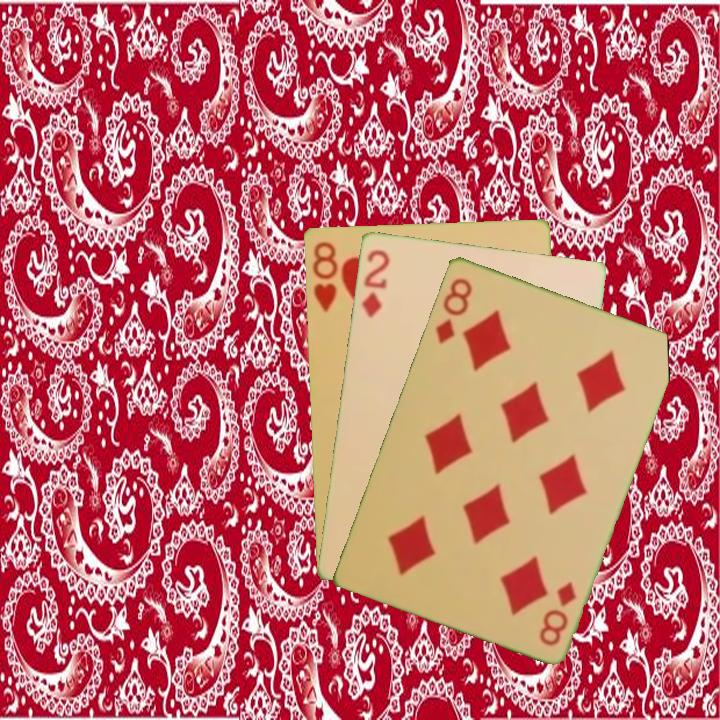2d: (357, 245, 392, 320)
8d: (431, 273, 475, 347), (535, 577, 579, 649)
8h: (308, 238, 340, 314)
